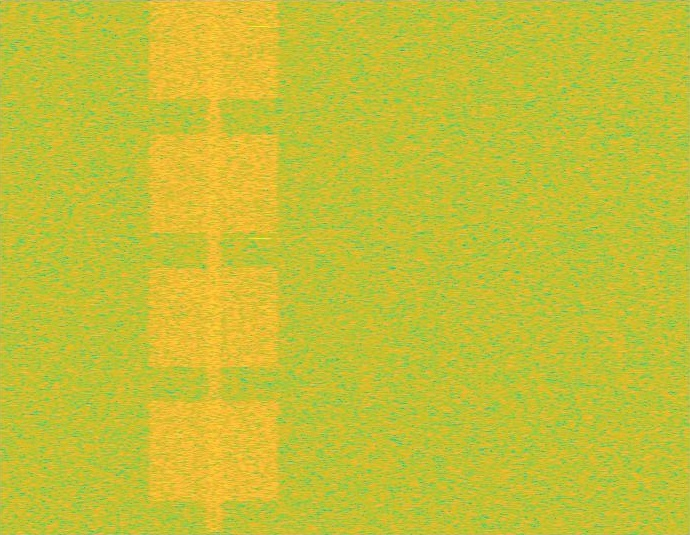5G: (145, 0, 283, 534)
DSSS: (204, 0, 223, 534)
Radar: (253, 0, 267, 534)
